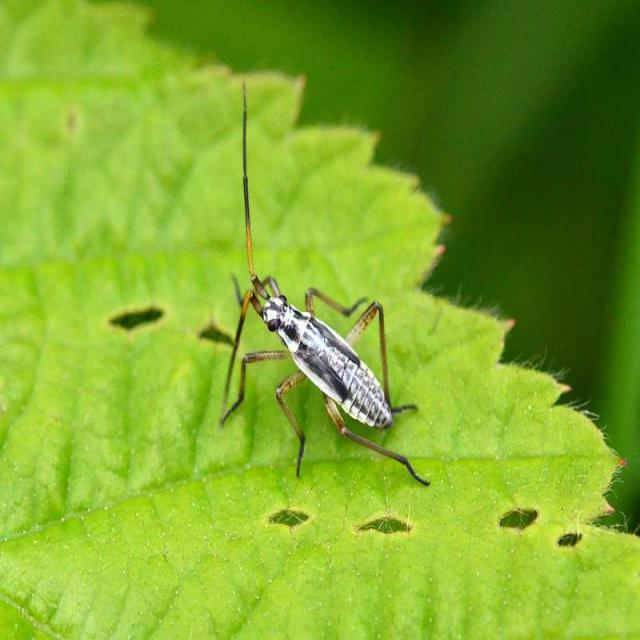Miridae-Adult-: (205, 75, 430, 495)
